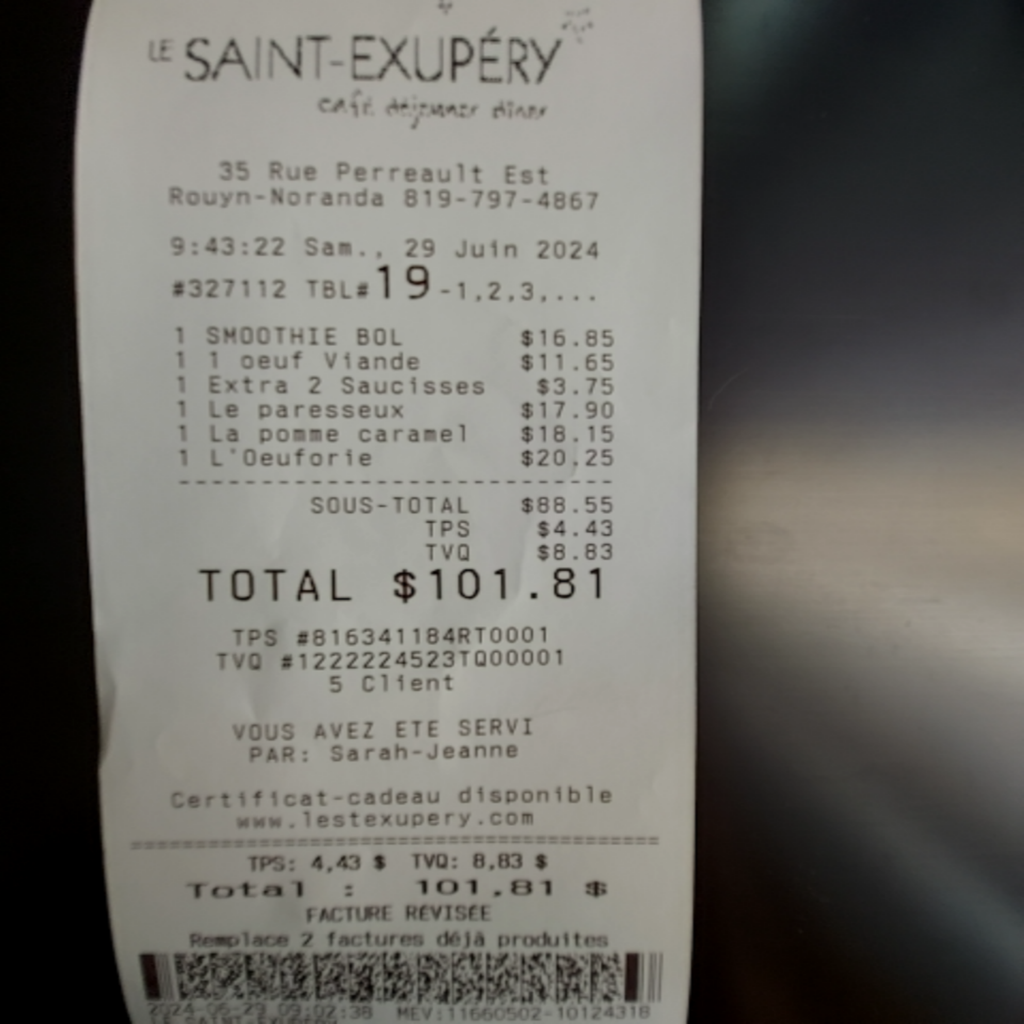recipt: (69, 2, 703, 1022)
